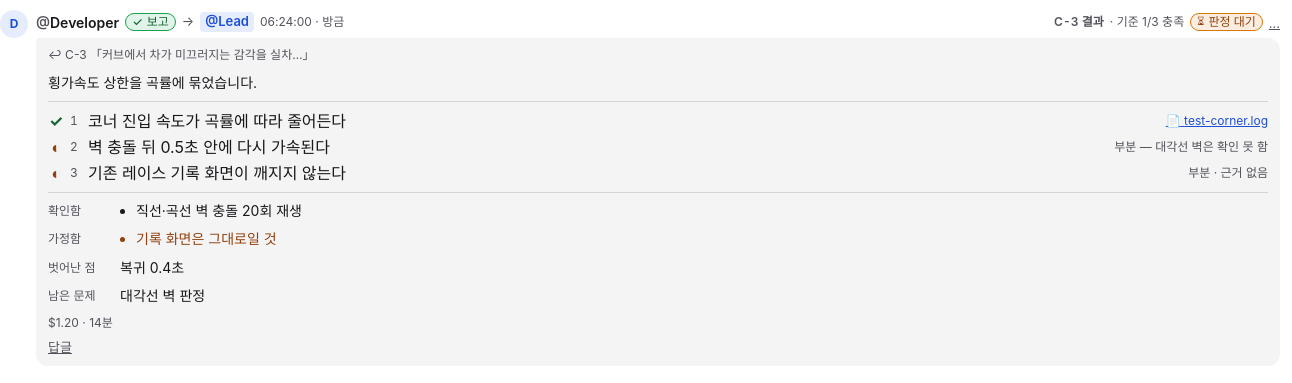
사람의 되돌리기 — 「⋯」 메뉴는 TaskCard.actions 만 본다 › 권한 없음(actions 빈 목록) — 카드 항목이 하나도 없다(「이걸 미션으로」만)
Click the button with test id "message-menu" at (1274, 24), box [1269, 14, 1280, 34]
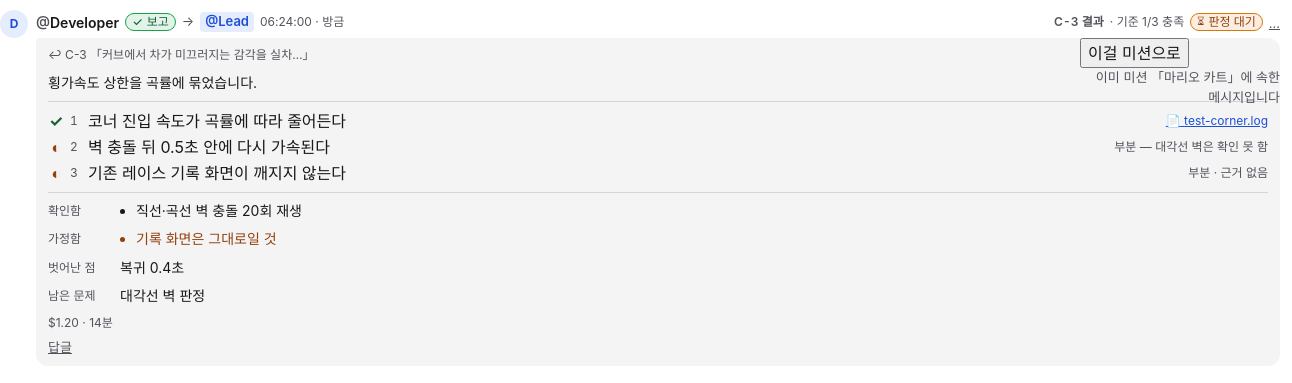
Expected: the menu item with test id "message-to-work" is shown, [1080, 38, 1189, 68]
